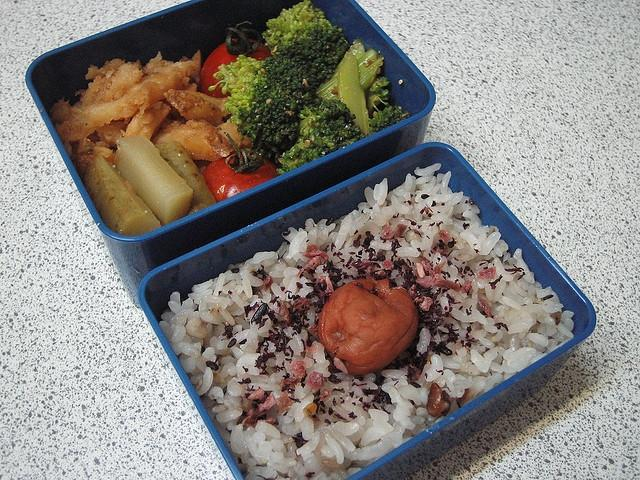broccoli: (276, 99, 366, 175), (262, 0, 342, 56), (316, 38, 384, 101), (208, 54, 265, 126), (337, 52, 370, 138), (368, 106, 409, 136), (367, 76, 391, 118)
tomato: (198, 20, 274, 98), (202, 132, 282, 203)
